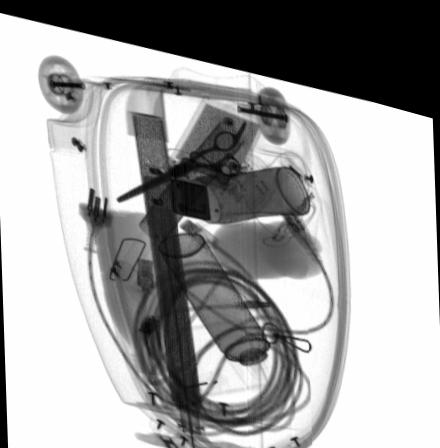Lighter: (170, 168, 211, 208)
Powerbank: (168, 86, 266, 179)
Scissors: (116, 106, 248, 197)
Sprayer: (157, 221, 289, 371)
